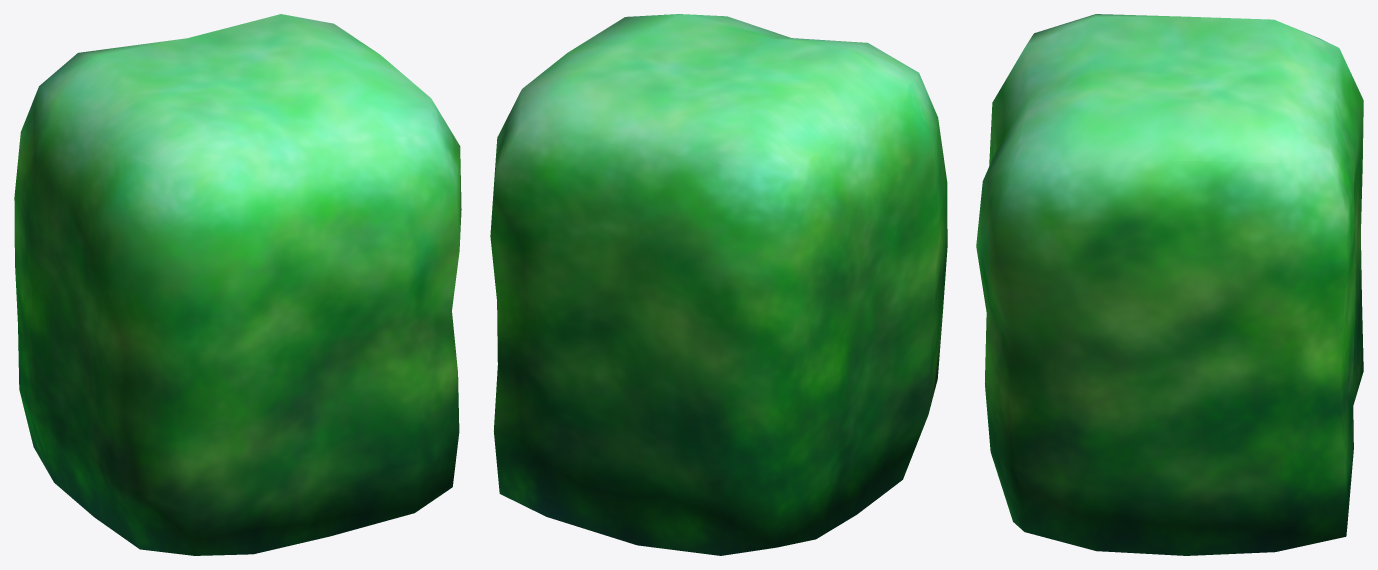
The model's file is Hedge_DEFAULT.dae.
3 views of the same model, side by side, from view 1: azimuth 30°, elevation 25°; view 2: azimuth 150°, elevation 25°; view 3: azimuth 270°, elevation 25° (orthographic).
Visible parts, largest first — view 1: mesh0; view 2: mesh0; view 3: mesh0.
Part boxes in pixels (x1=…): mesh0: x1=14, y1=14, x2=461, y2=555; mesh0: x1=490, y1=14, x2=947, y2=555; mesh0: x1=976, y1=14, x2=1363, y2=555.
Size of the model in its own units: 1.27 by 1.49 by 1.22.
